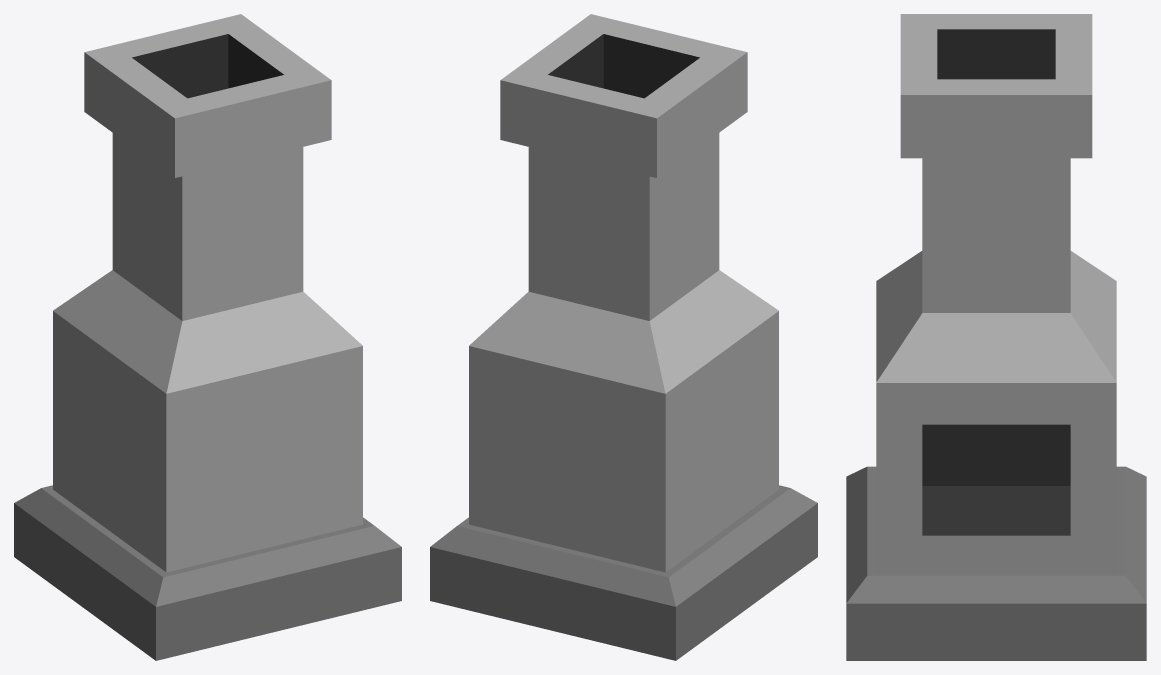
The model's file is Blacksmith Stove.fbx.
3 renders of one model, left to right at view 1: azimuth 30°, elevation 25°; view 2: azimuth 150°, elevation 25°; view 3: azimuth 270°, elevation 25°, orthographic. The views are drawn at different scales.
Parts seen in each view (by area): view 1: Blacksmith_Stove; view 2: Blacksmith_Stove; view 3: Blacksmith_Stove.
Boxes of the visible parts, x1,y1,x2,y2 form: Blacksmith_Stove: [14, 14, 401, 660]; Blacksmith_Stove: [430, 14, 817, 660]; Blacksmith_Stove: [846, 14, 1146, 660].
Bounding box in the file's own units: 0.65 × 1.3 × 0.65.
